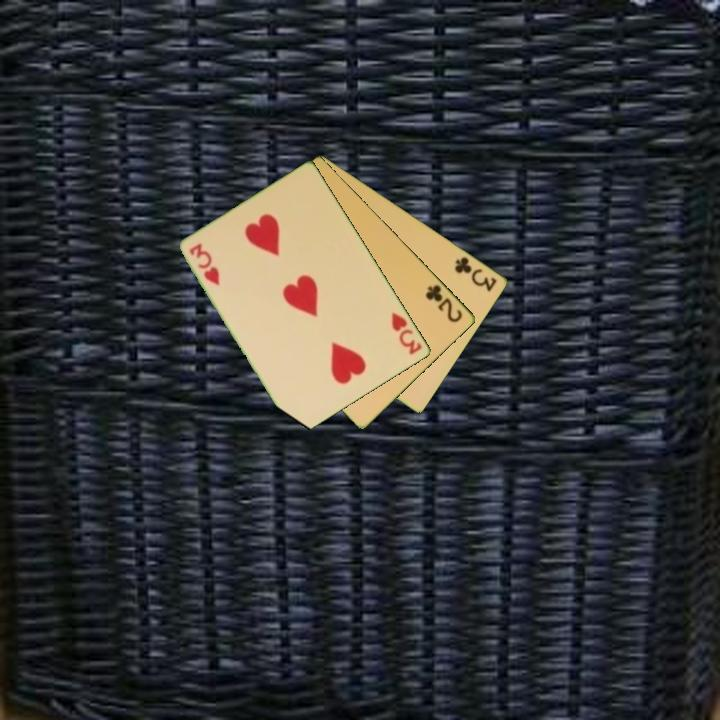2c: (422, 281, 466, 325)
3c: (451, 253, 500, 295)
3h: (388, 309, 425, 358), (186, 240, 223, 289)
